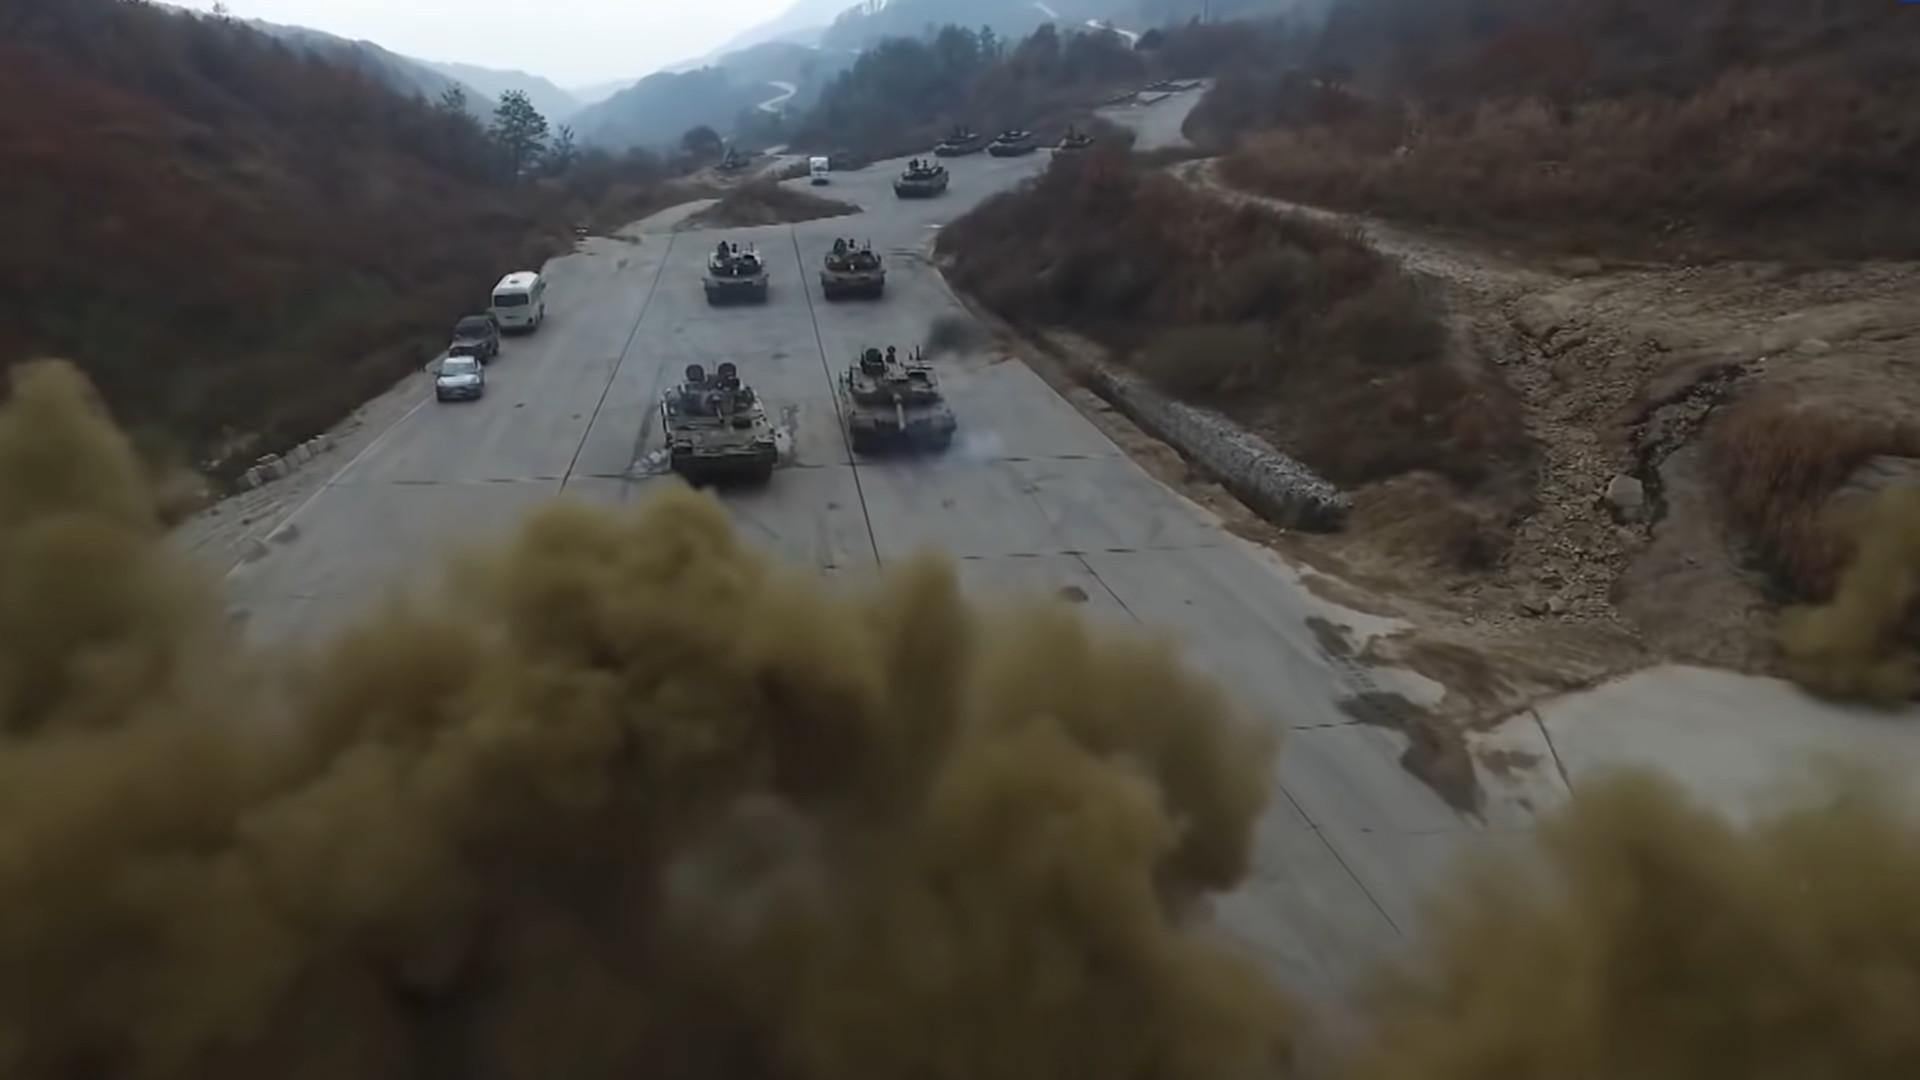tank: (661, 364, 778, 485), (837, 344, 955, 452), (703, 239, 767, 305), (819, 237, 887, 299), (894, 157, 949, 196)
